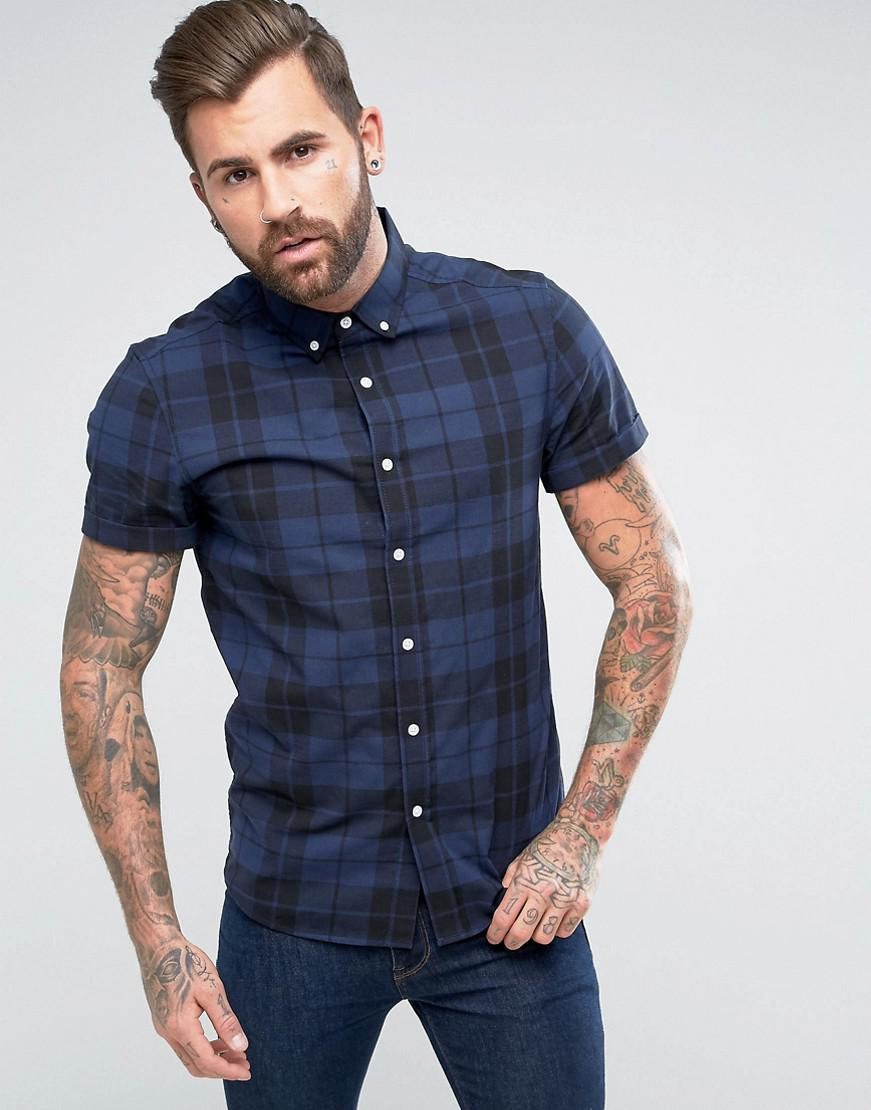teeshirt: (81, 208, 588, 937)
